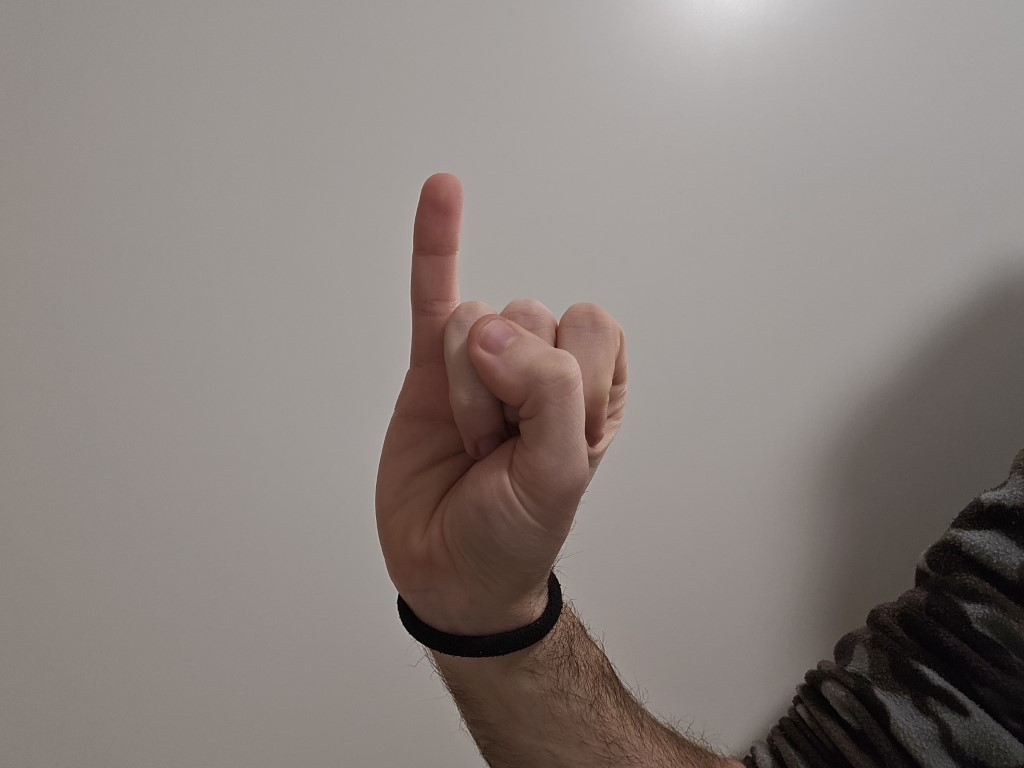i: (374, 159, 638, 589)
